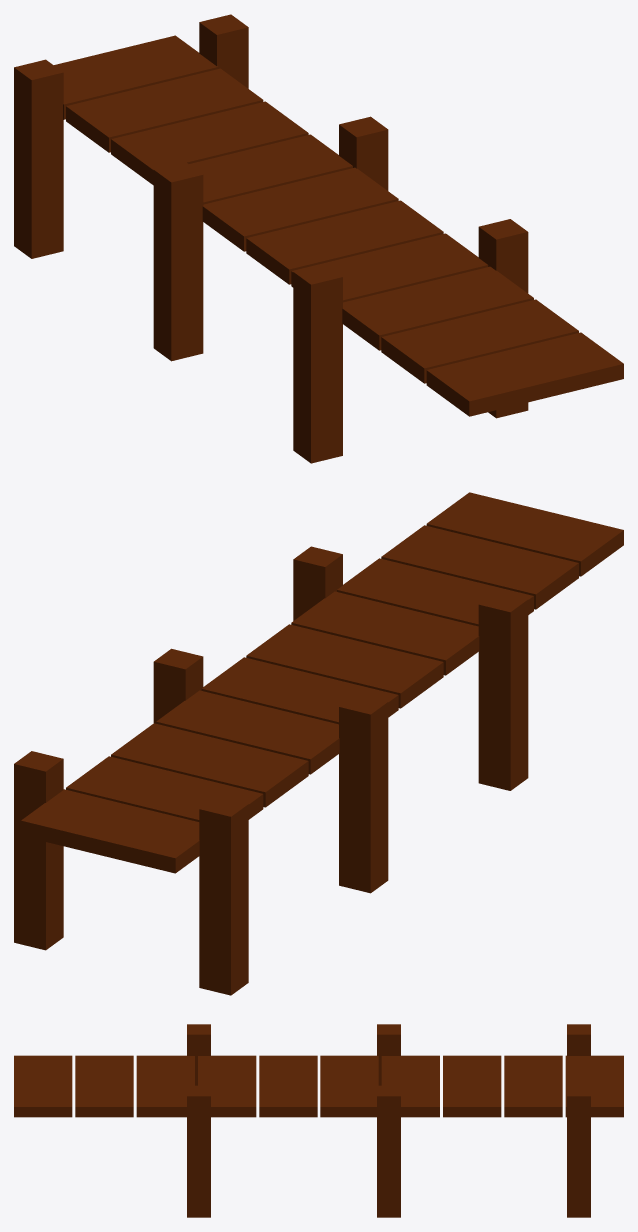
File: Dockbay.fbx
3 renders of one model, top to bottom at view 1: azimuth 30°, elevation 25°; view 2: azimuth 150°, elevation 25°; view 3: azimuth 270°, elevation 25°, orthographic. The views are drawn at different scales.
Parts seen in each view (by area): view 1: Cube, Cube.001; view 2: Cube, Cube.001; view 3: Cube, Cube.001.
Boxes of the visible parts, box(x1,y1,x2,y2) form: Cube: box(54, 35, 623, 416); Cube.001: box(14, 14, 528, 463); Cube: box(21, 492, 623, 873); Cube.001: box(14, 546, 528, 995); Cube: box(14, 1055, 623, 1117); Cube.001: box(187, 1024, 590, 1217).
Bounding box in the file's own units: 584 × 460 × 2090.
